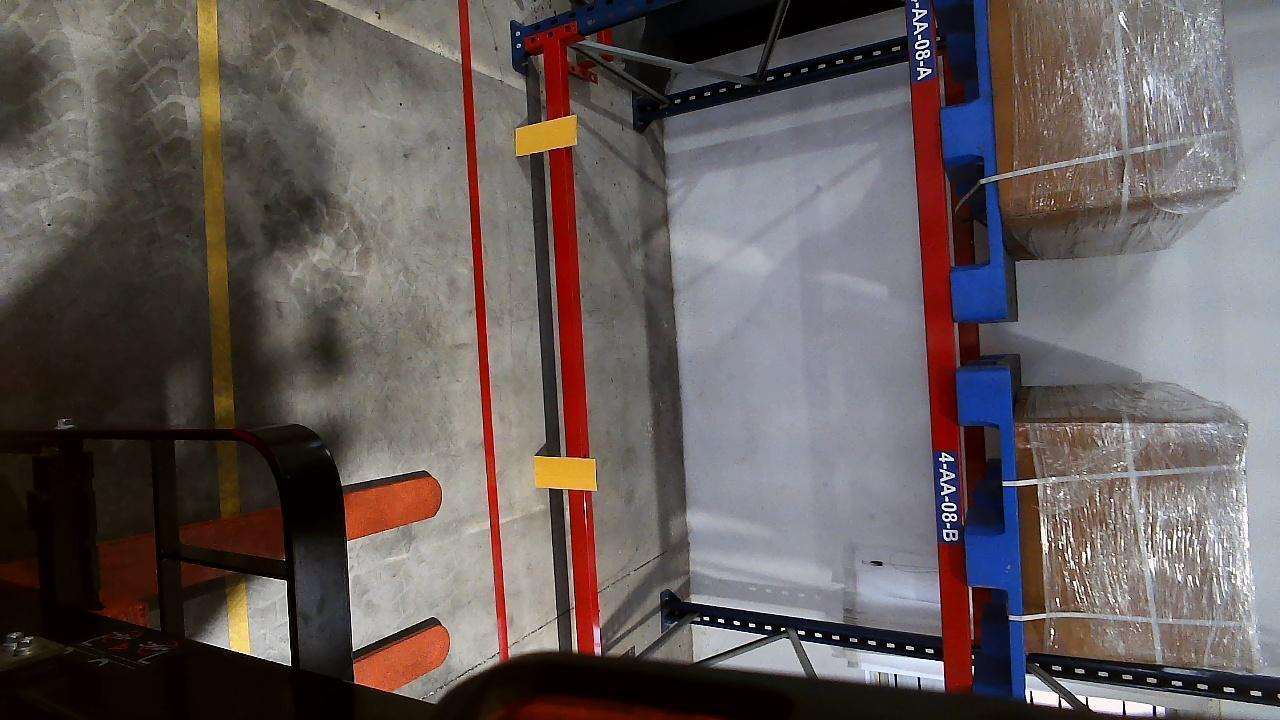red_line: (457, 1, 507, 666)
yellow_line: (196, 2, 236, 429)
